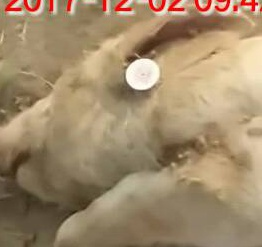text: (114, 46, 171, 100)
